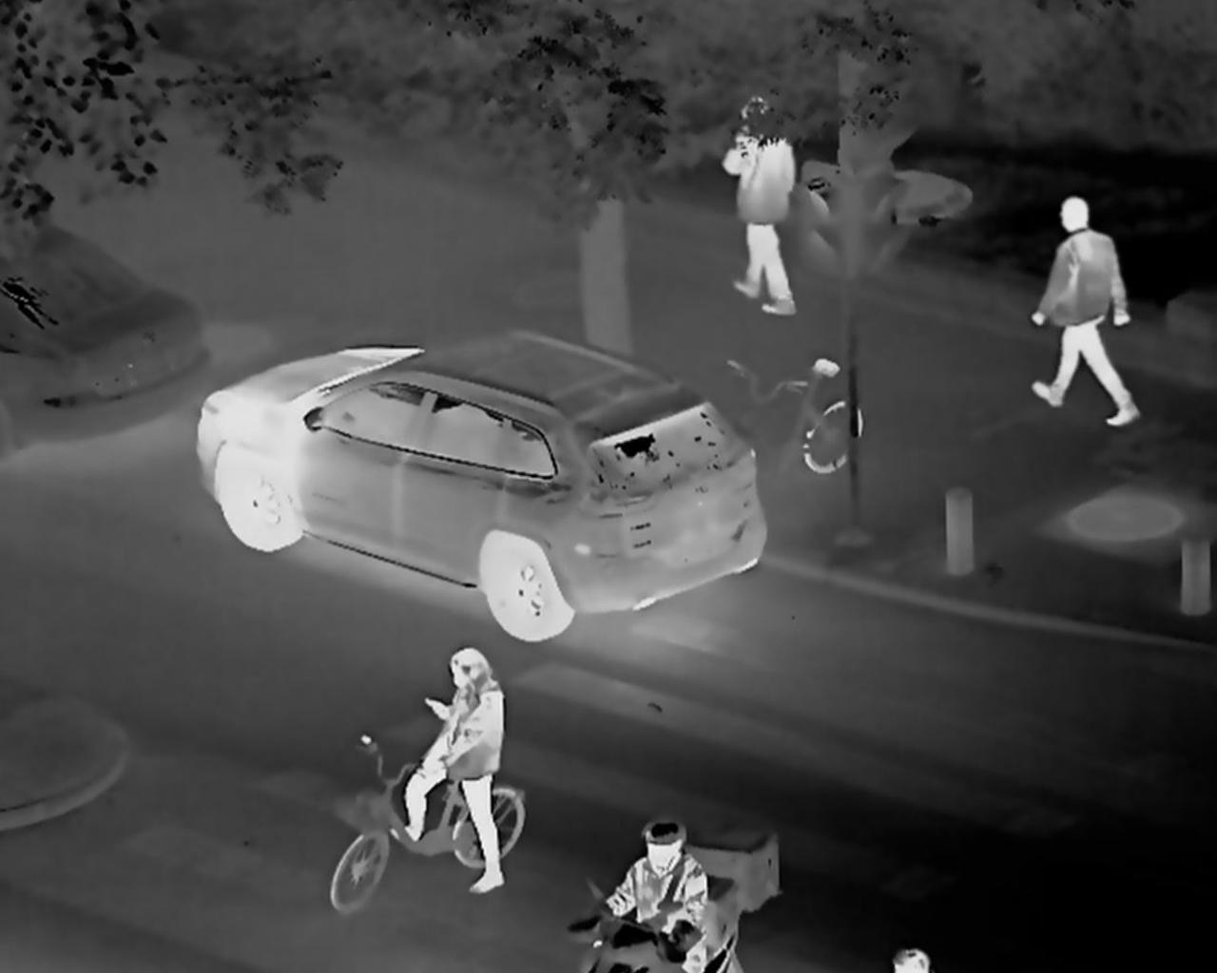person: (393, 644, 504, 892), (1026, 190, 1140, 427), (570, 820, 708, 973), (721, 94, 798, 319)
